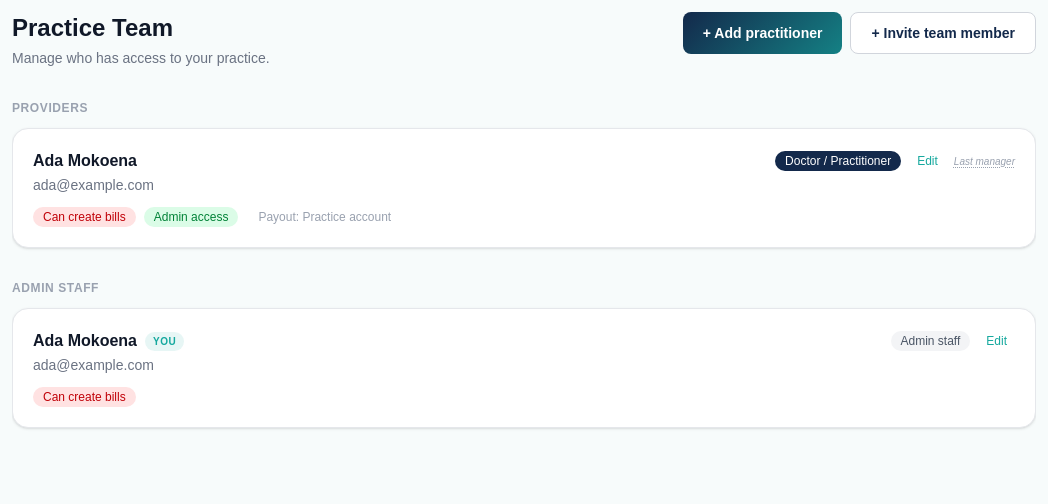
Test: "Last manager" tag explains the actual rule › tapping the tag reveals an explanation matching the real condition
Click the button with test id "last-manager-tag-doc1" at (984, 161), box [954,154,1015,168]
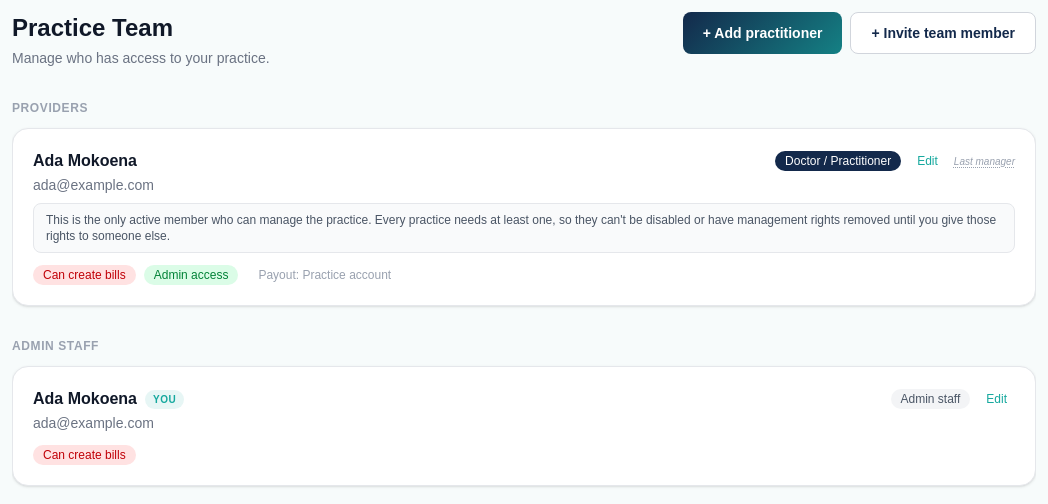
Now the text with test id "last-manager-help-doc1" shows "only active member who can manage", box [46,213,996,243]
Now the text with test id "last-manager-help-doc1" shows "at least one", box [46,213,996,243]
Now the text with test id "last-manager-help-doc1" shows "rights to someone else", box [46,213,996,243]
